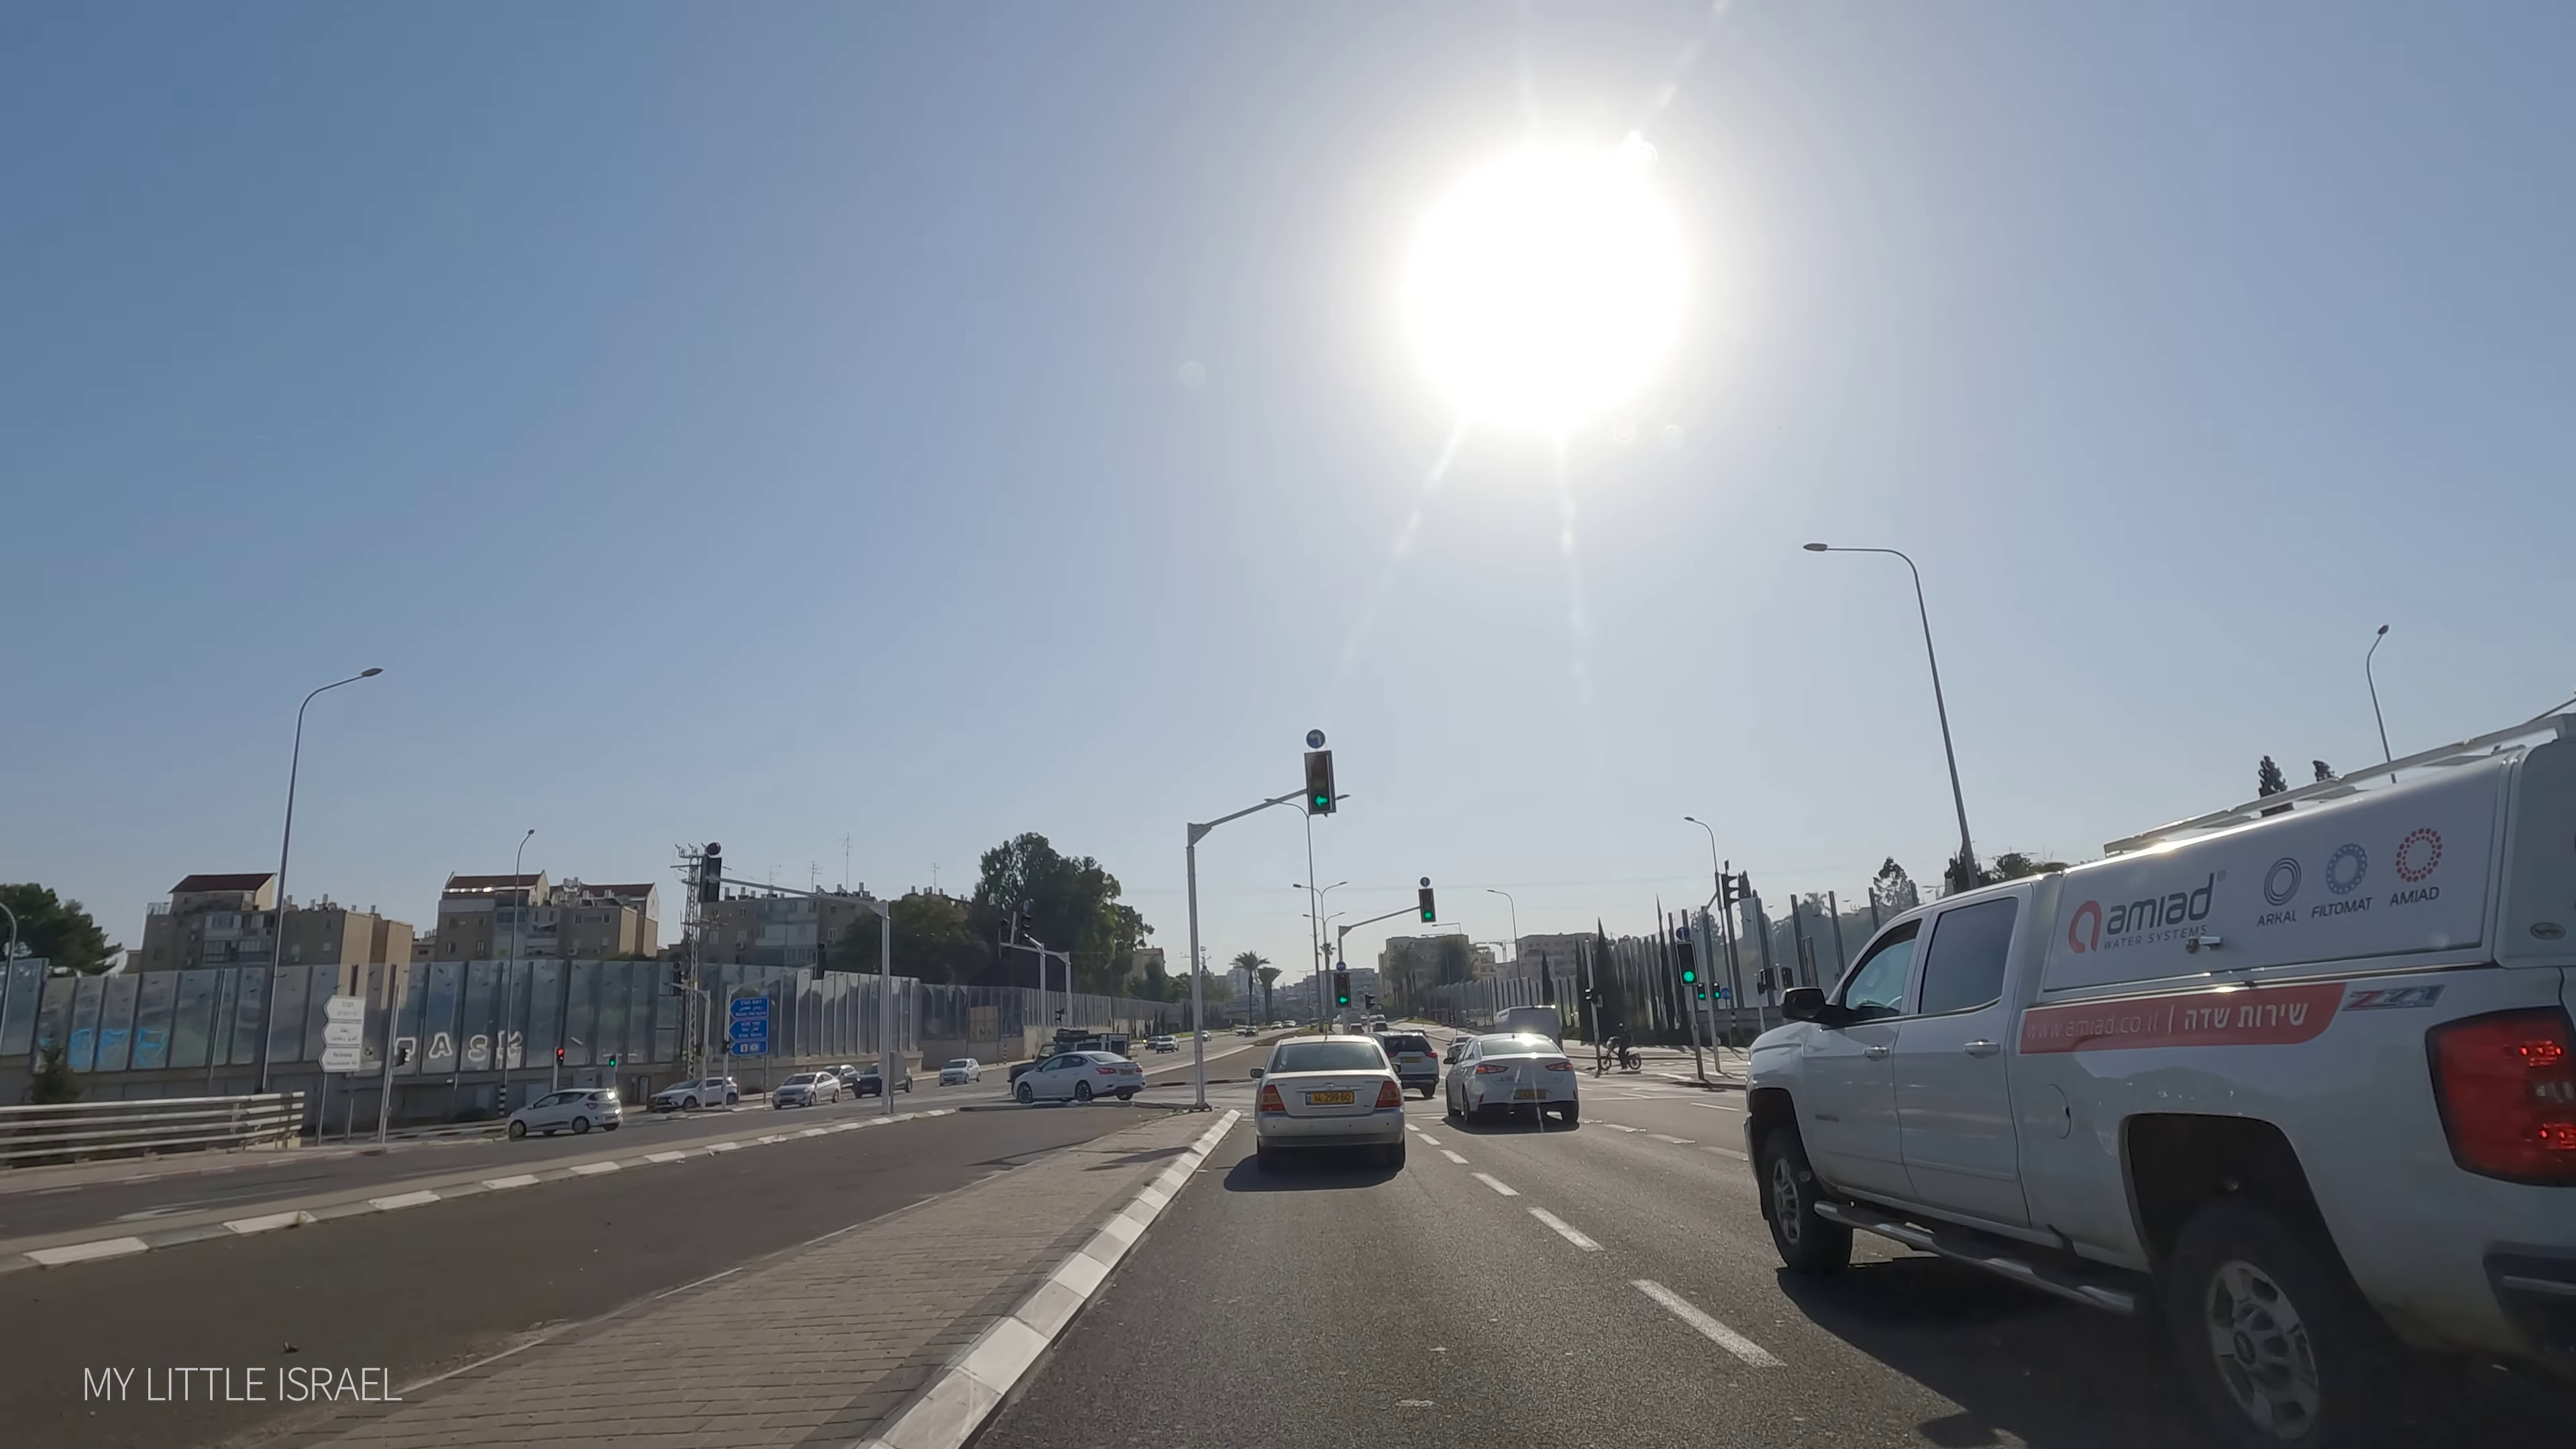licence: (1305, 1090, 1354, 1106), (1514, 1089, 1548, 1099)
